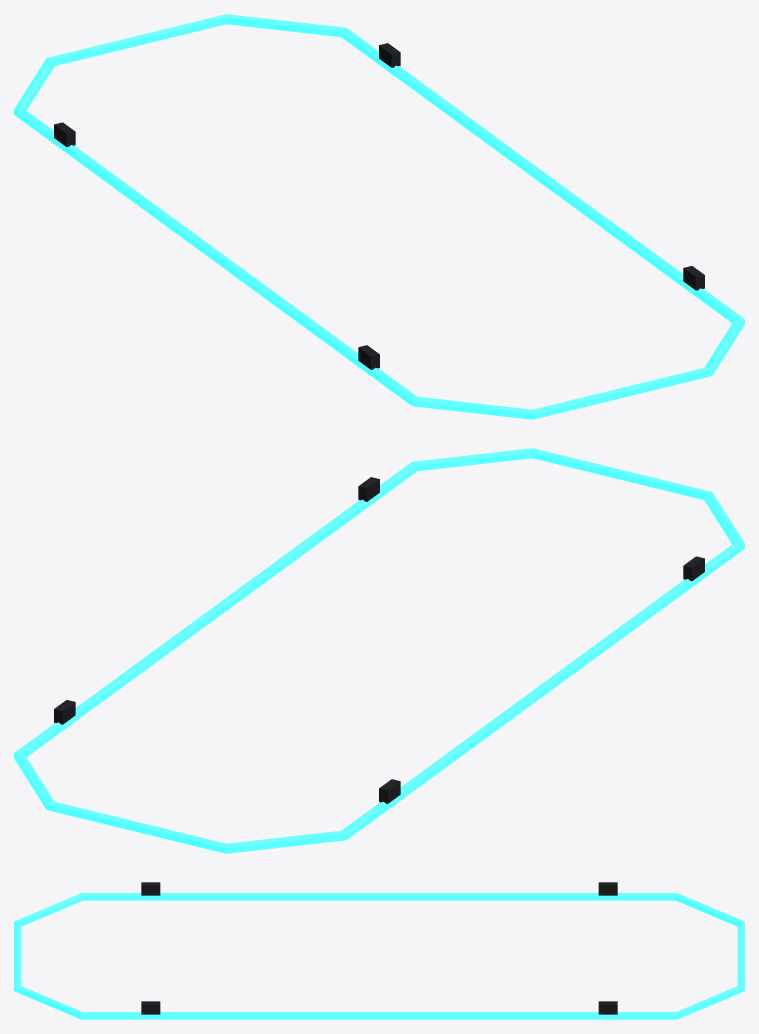
Rendered from underglow_strip.glb.
3 renders of one model, top to bottom at view 1: azimuth 30°, elevation 25°; view 2: azimuth 150°, elevation 25°; view 3: azimuth 270°, elevation 25°, orthographic. The views are drawn at different scales.
Parts seen in each view (by area): view 1: Body; view 2: Body; view 3: Body.
Part boxes in pixels (bbox=[...]): Body: bbox=[14, 14, 744, 419]; Body: bbox=[14, 448, 744, 853]; Body: bbox=[14, 882, 744, 1019].
Bounding box in the file's own units: 1.52 × 0.097 × 3.84.
